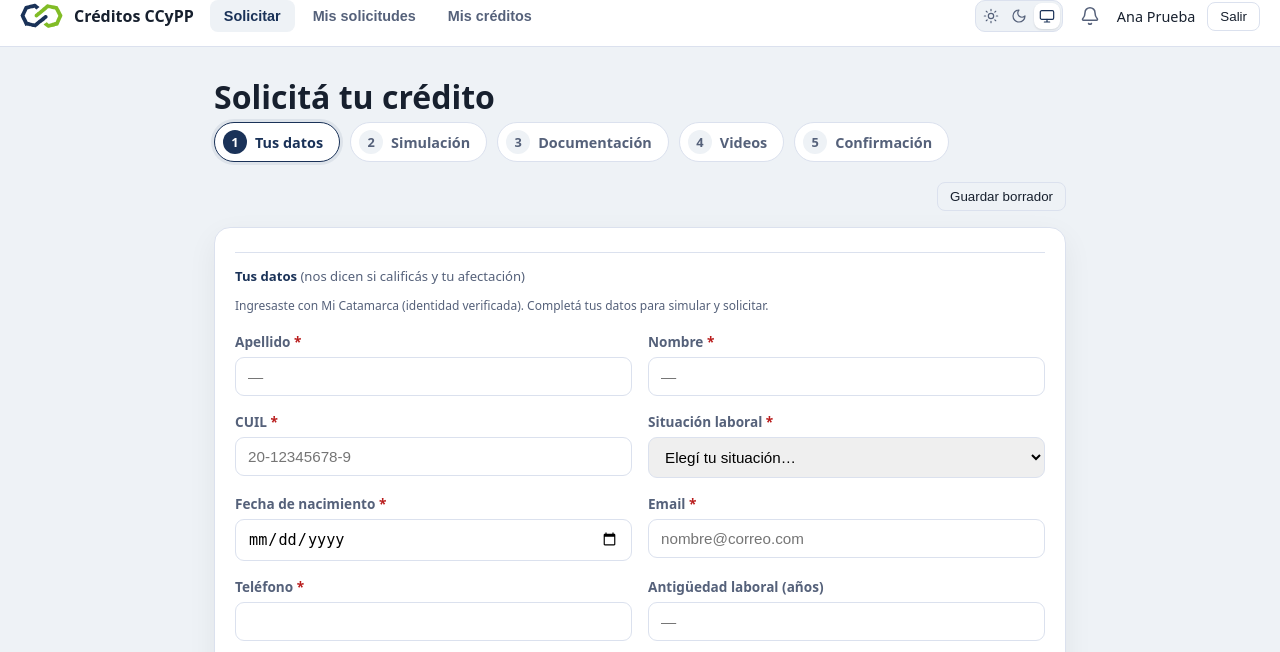
Test: paso 1 · tus datos › exige la situación laboral
Expected: the heading "Solicitá tu crédito" is shown, [214, 75, 495, 118]
Type "Prueba" into the field labelled "Apellido *" at (434, 376), box [235, 357, 632, 396]
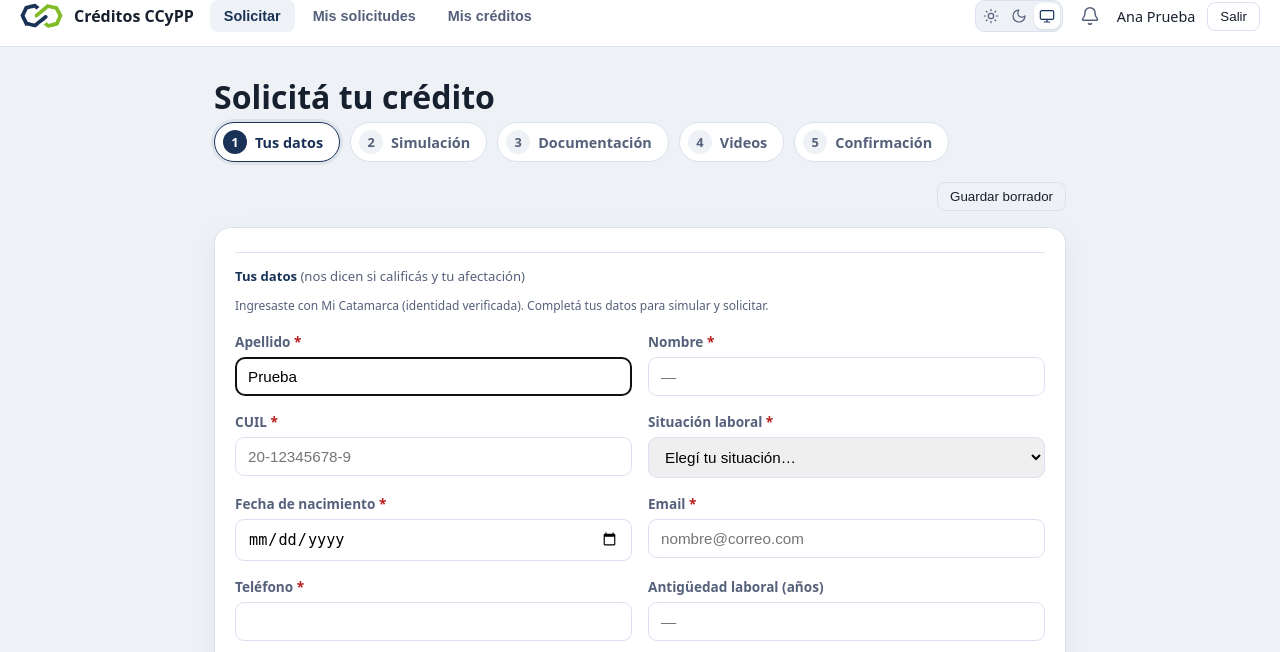
Type "Ana" into the field labelled "Nombre *" at (846, 376), box [648, 357, 1045, 396]
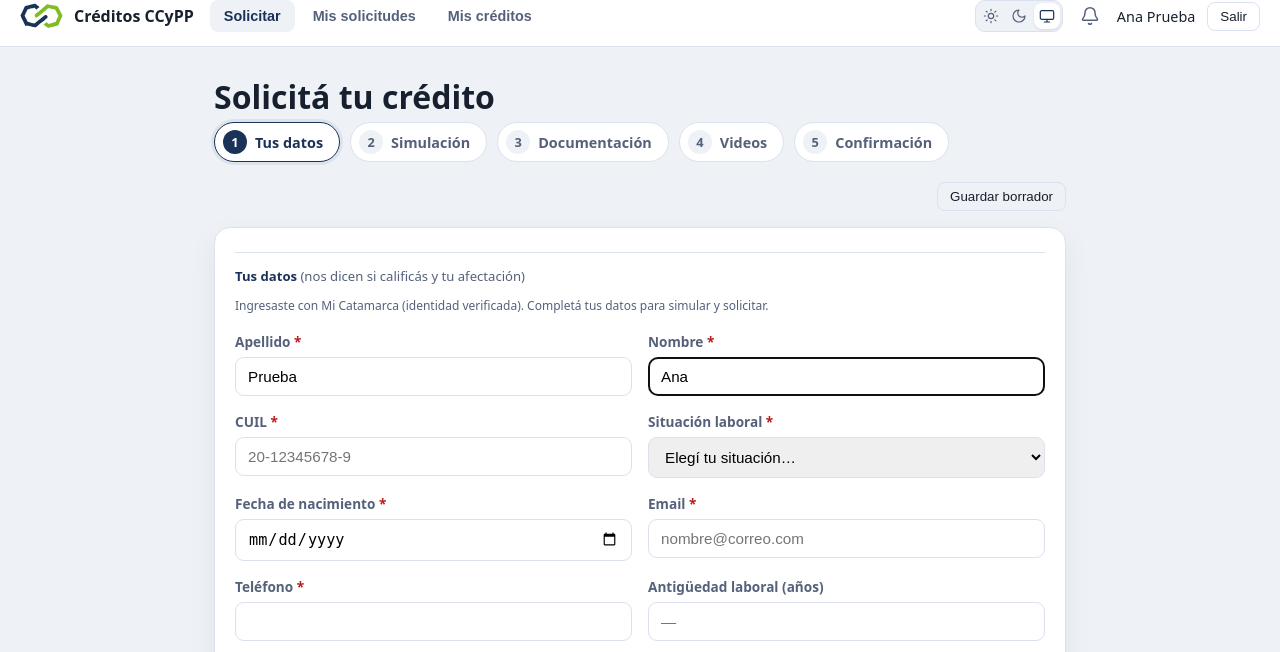
Type "20301234563" into the field labelled "CUIL *" at (434, 456), box [235, 437, 632, 476]
(page scrolled)
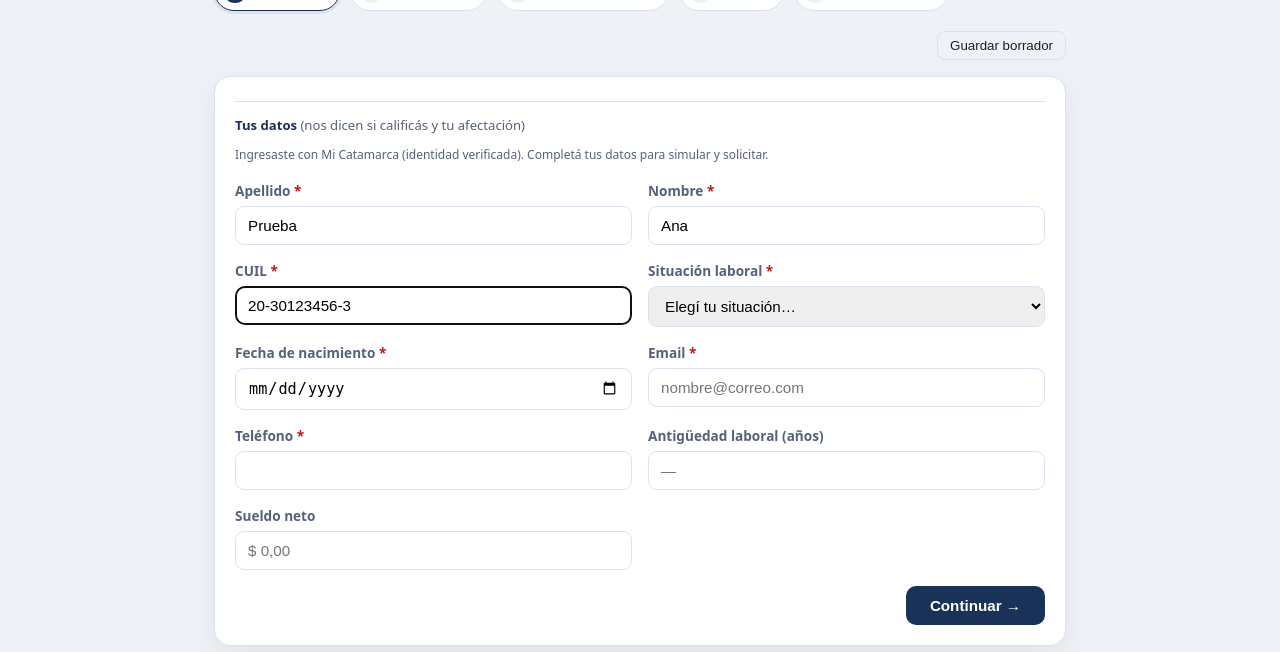
Click the button "Continuar →" at (975, 606), box [906, 586, 1045, 625]
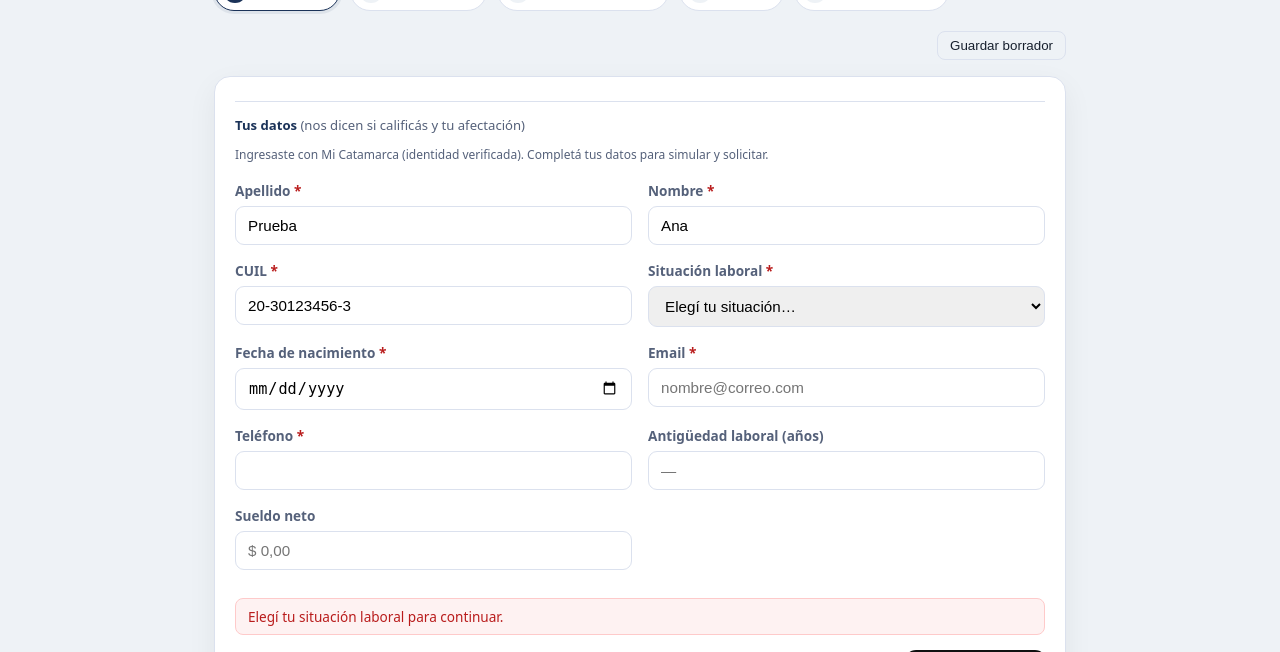
Expected: the text "Elegí tu situación laboral para continuar." is shown, [235, 598, 1045, 635]
